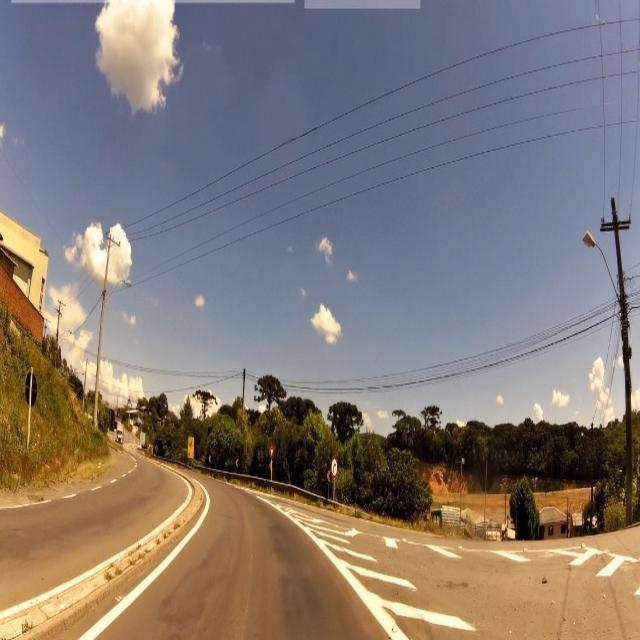R-2: (267, 444, 277, 458)
